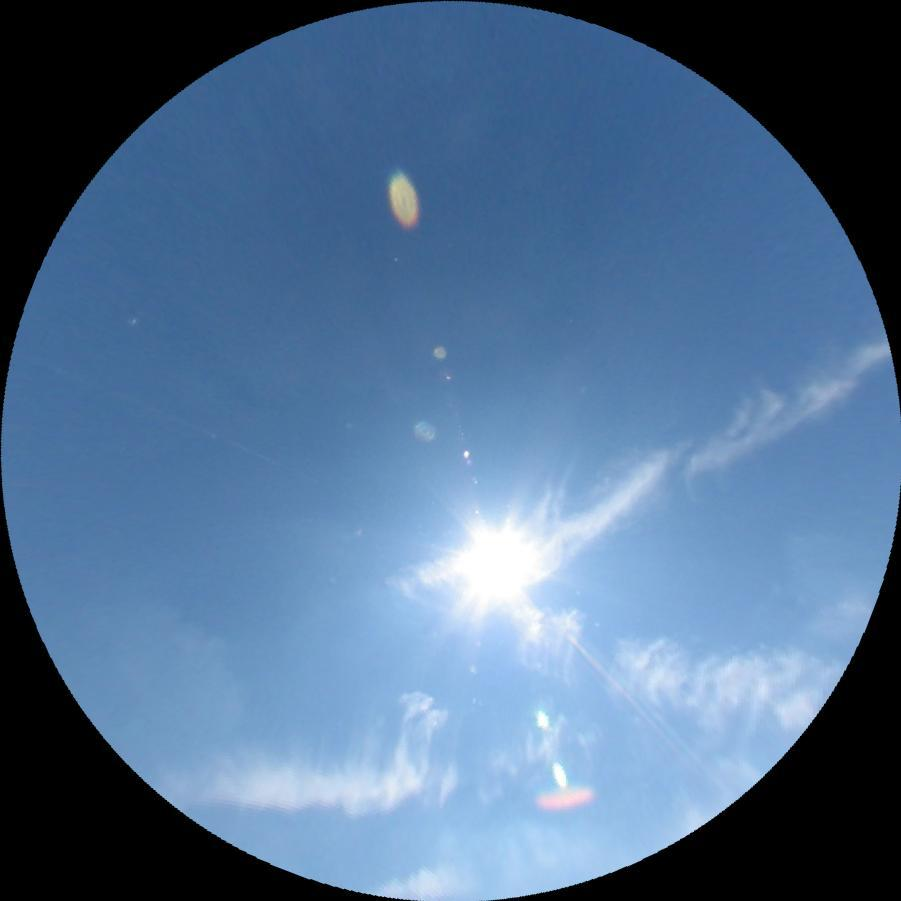parasite: (562, 628, 680, 753)
sun: (449, 513, 544, 607)
